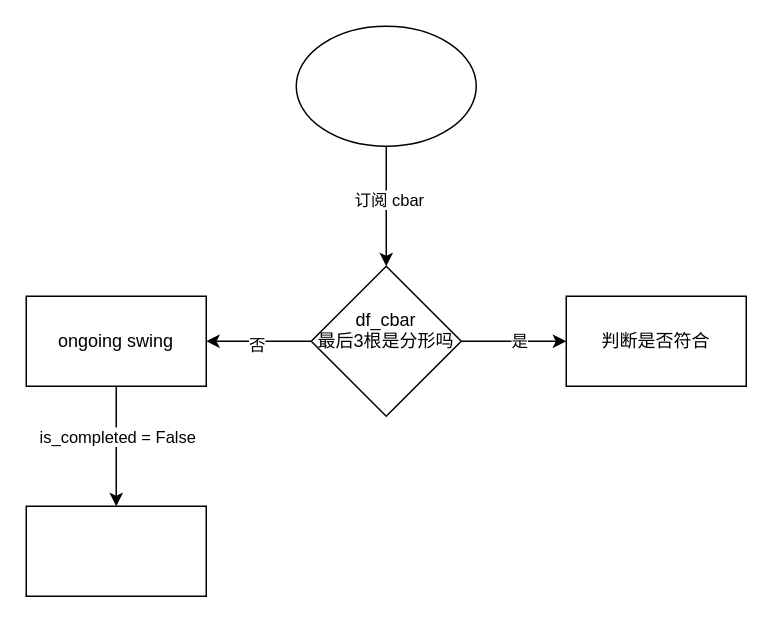
The diagram is 773 pixels wide and 623 high, and some of its shapes have lost their labels. Here are the shapes that lost their labels. From the top down, the centre of each, then its label:
(385,85): 开始
(115,550): 更新swing的end_index、high_price/low_price
